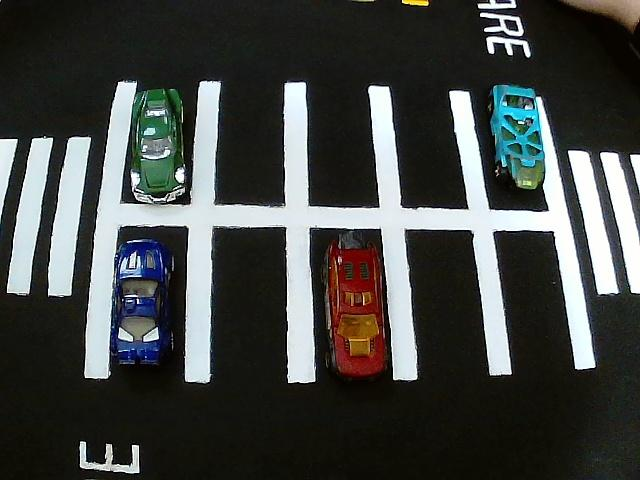Carro: (325, 232, 392, 384), (113, 240, 171, 368), (129, 89, 190, 205), (491, 84, 549, 191)
